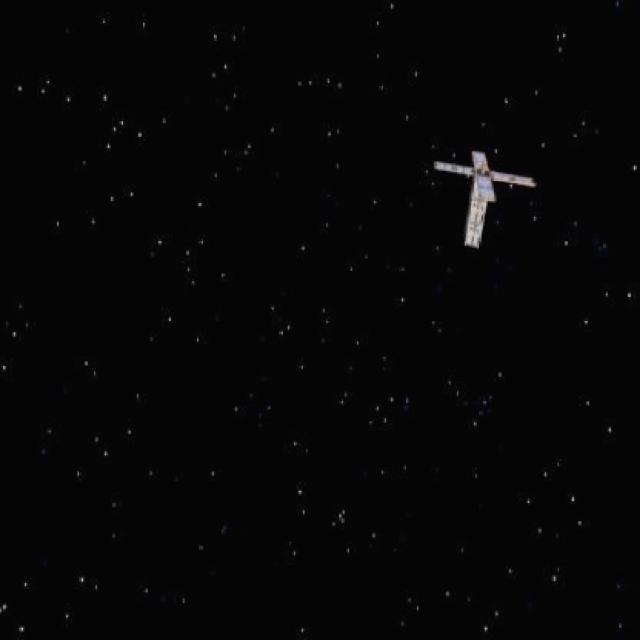medium_debris: (419, 139, 536, 246)
